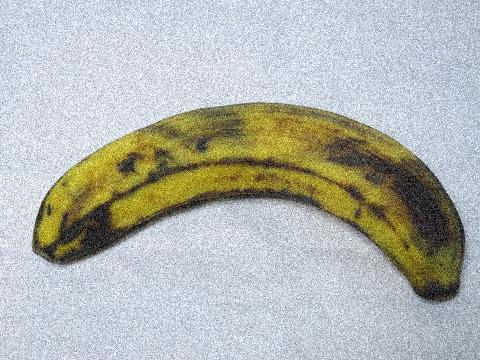overripe: (16, 93, 479, 314)
